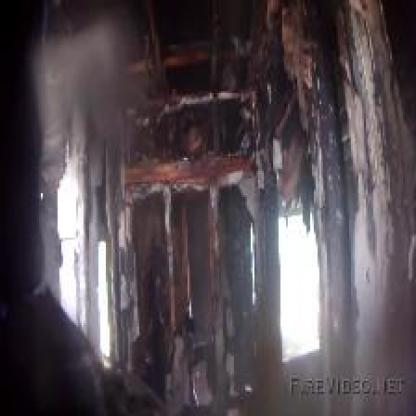other: (254, 198, 331, 358)
